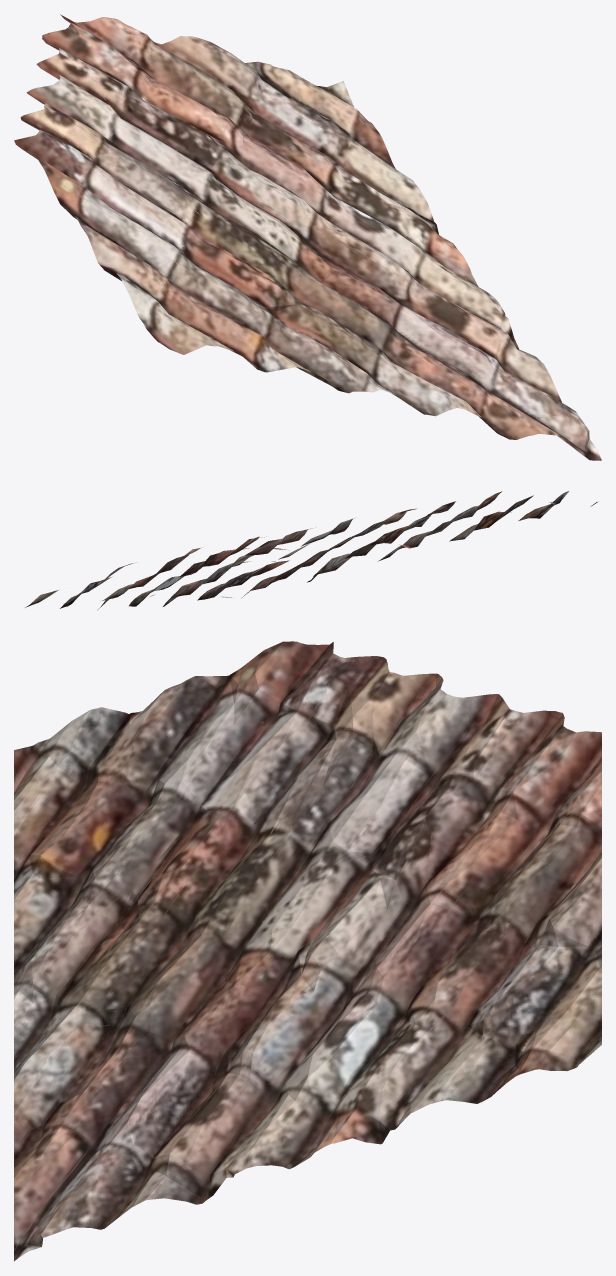
The picture shows the model from 3 angles, top to bottom: view 1: azimuth 30°, elevation 25°; view 2: azimuth 150°, elevation 25°; view 3: azimuth 270°, elevation 25°; orthographic projection. The views are drawn at different scales.
Size of the model in its own units: 1.67 by 1.17 by 1.67.
3 materials, 3 textured.
